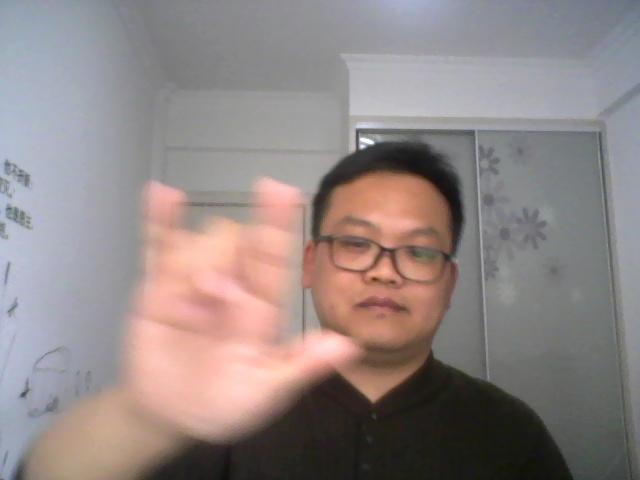I Love You: (106, 172, 370, 454)
